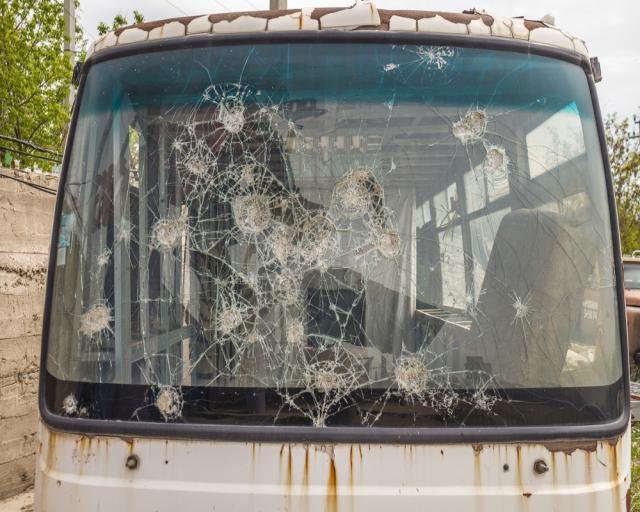glass shatter: (43, 40, 624, 428)
